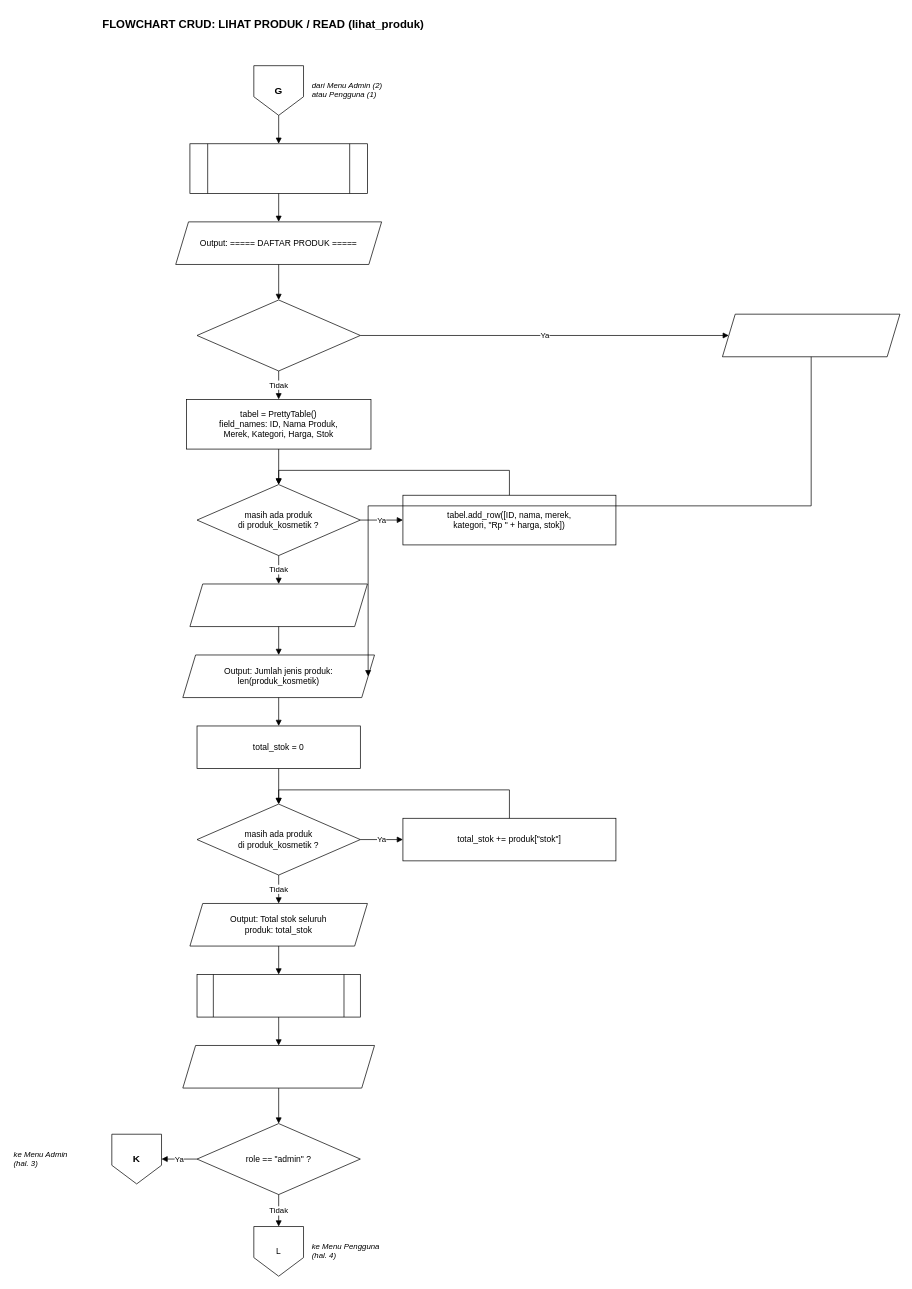
Some shapes in this 912 by 1289 pixel diagram are drawn without their labels. Here are the shapes that lost their labels. From the top down, the centre of each, then its label:
the point at 278,168: lihat_produk() memanggil tampilkan_produk( data.produk_kosmetik)
the point at 278,335: len(produk_kosmetik) == 0 ?
the point at 811,335: Output: Belum ada produk.
the point at 278,605: Output: tabel produk (PrettyTable)
the point at 278,995: hitung_total_stok() (fungsi rekursif, hal. 6b)
the point at 278,1066: Output: Total stok berdasarkan rekursif: hasil
